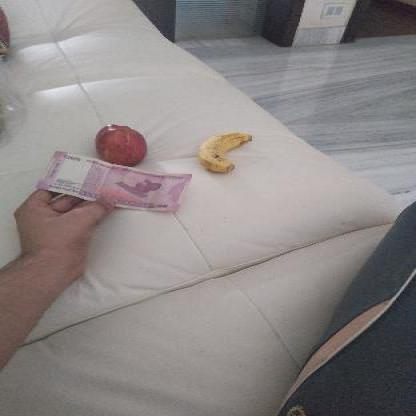New2000Back: (42, 150, 195, 218)
